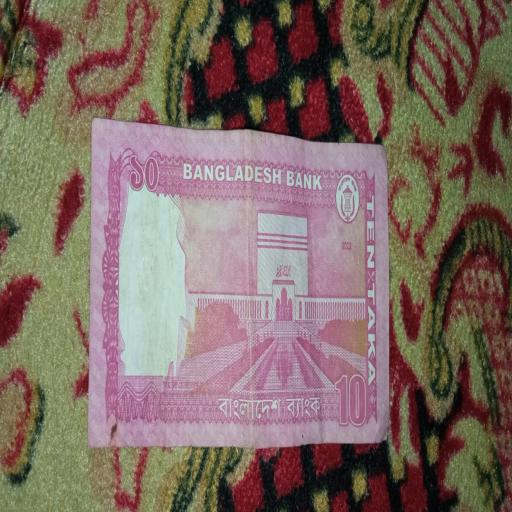10taka: (87, 126, 392, 446)
